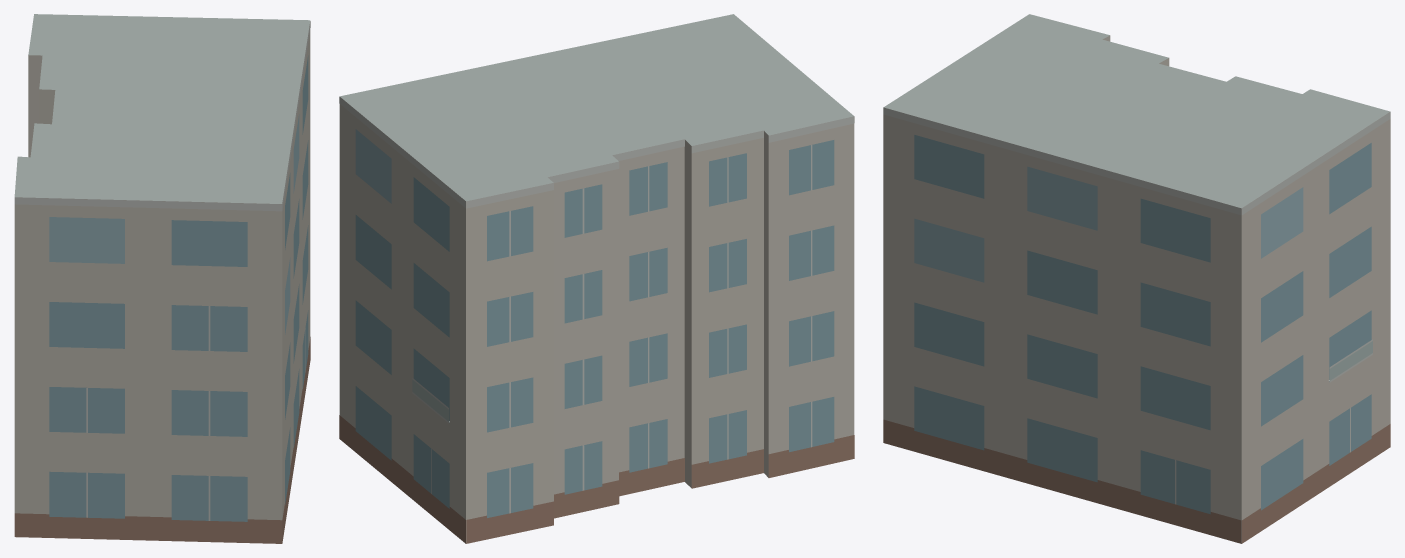
File: survey-upis-32884465.glb
3 renders of one model, left to right at view 1: azimuth 30°, elevation 25°; view 2: azimuth 150°, elevation 25°; view 3: azimuth 270°, elevation 25°, orthographic. The views are drawn at different scales.
Visible parts, largest first — view 1: survey-upis-32884465.tmp; view 2: survey-upis-32884465.tmp; view 3: survey-upis-32884465.tmp.
Boxes of the visible parts, x1,y1,x2,y2 form: survey-upis-32884465.tmp: (14,14,310,543); survey-upis-32884465.tmp: (339,14,854,543); survey-upis-32884465.tmp: (883,14,1390,543).
Bounding box in the file's own units: 14.3 × 11.5 × 15.76.
